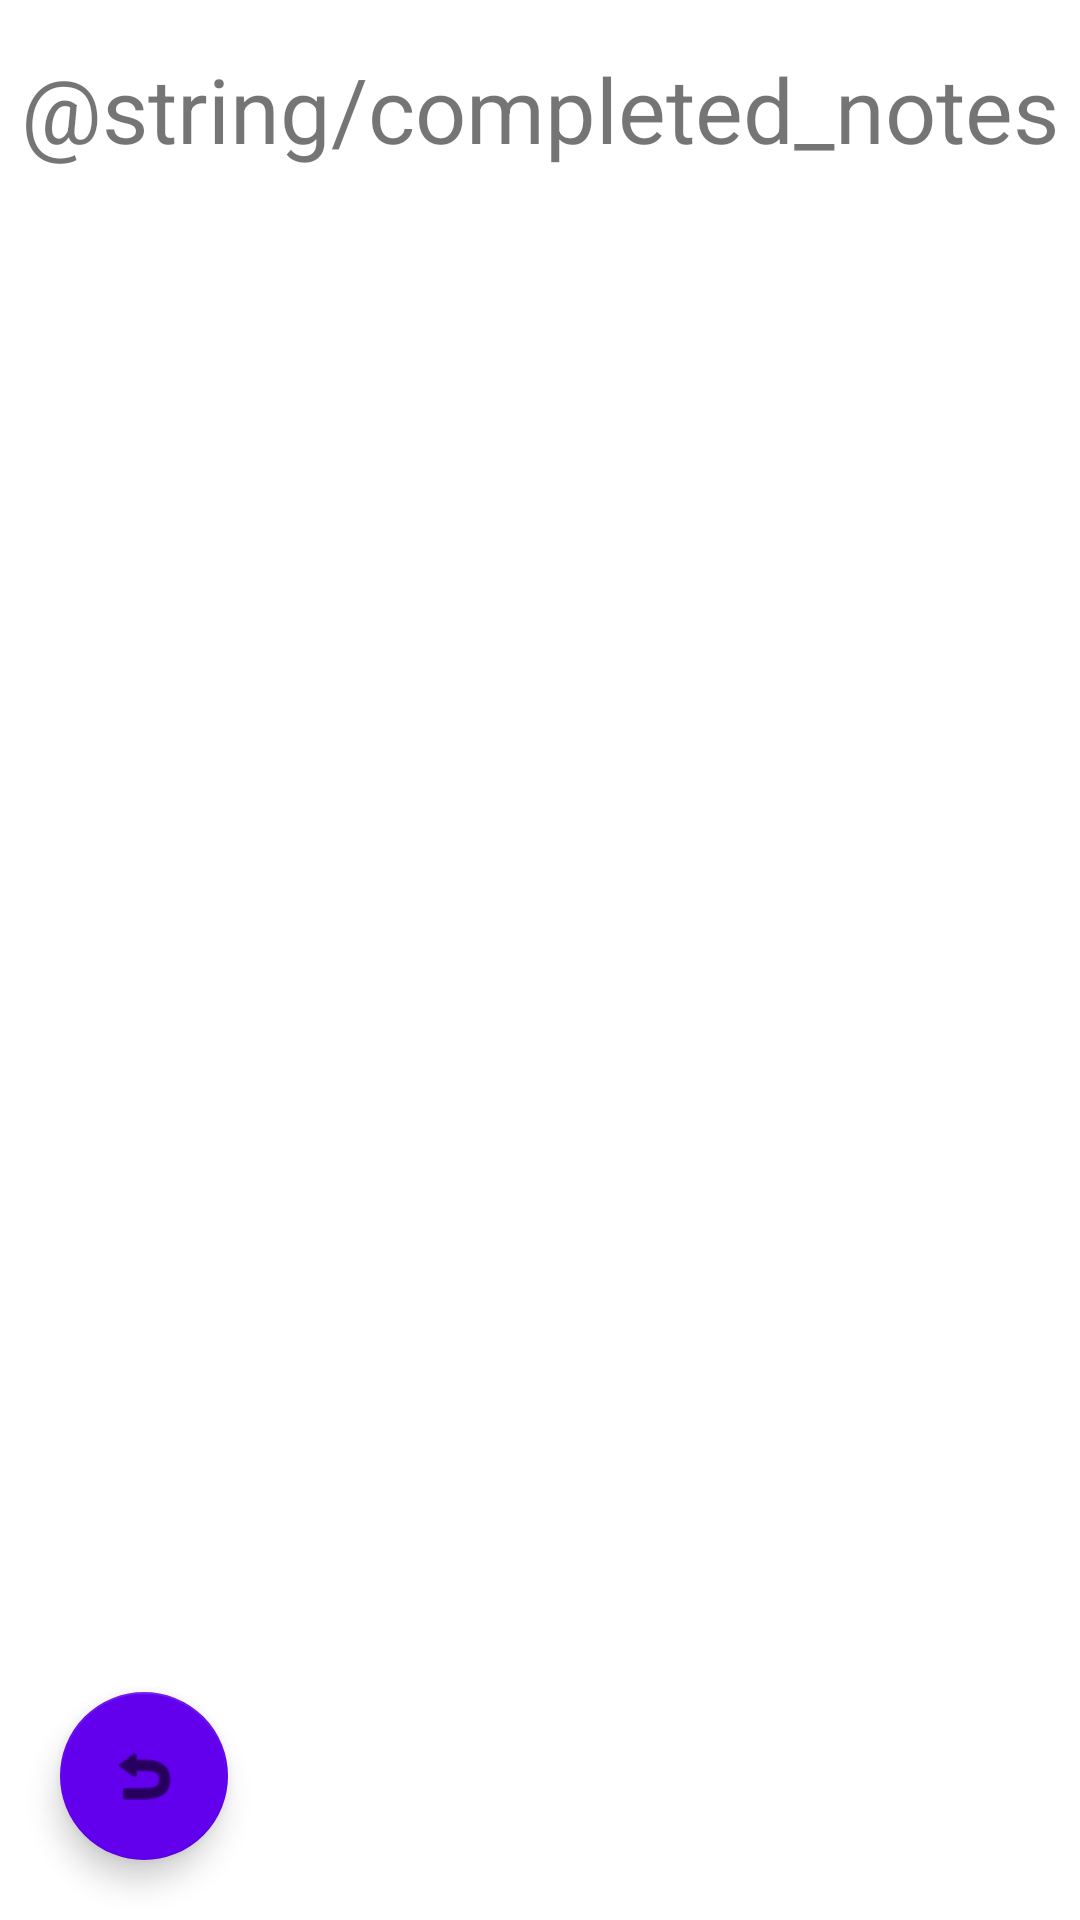

Named icons in this screenshot (1080*1920) and their bounding boxes, detection(x1, y1, x2, y2):
revert: detection(60, 1692, 228, 1860)
